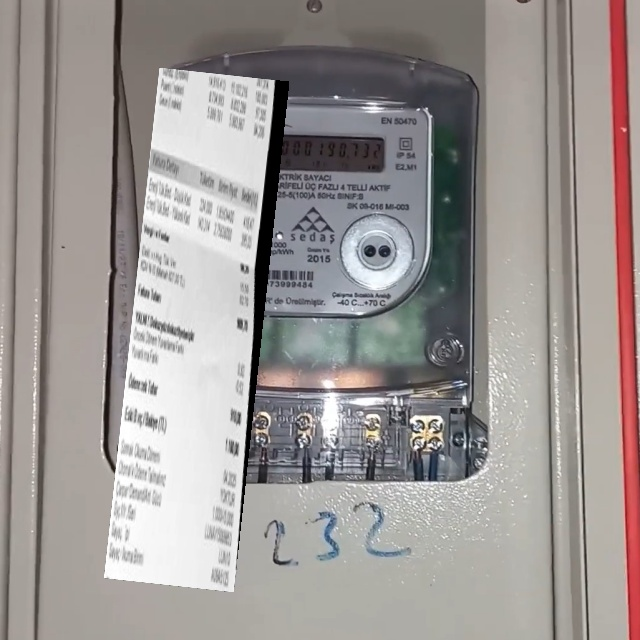electricity-bill: (104, 66, 288, 591)
